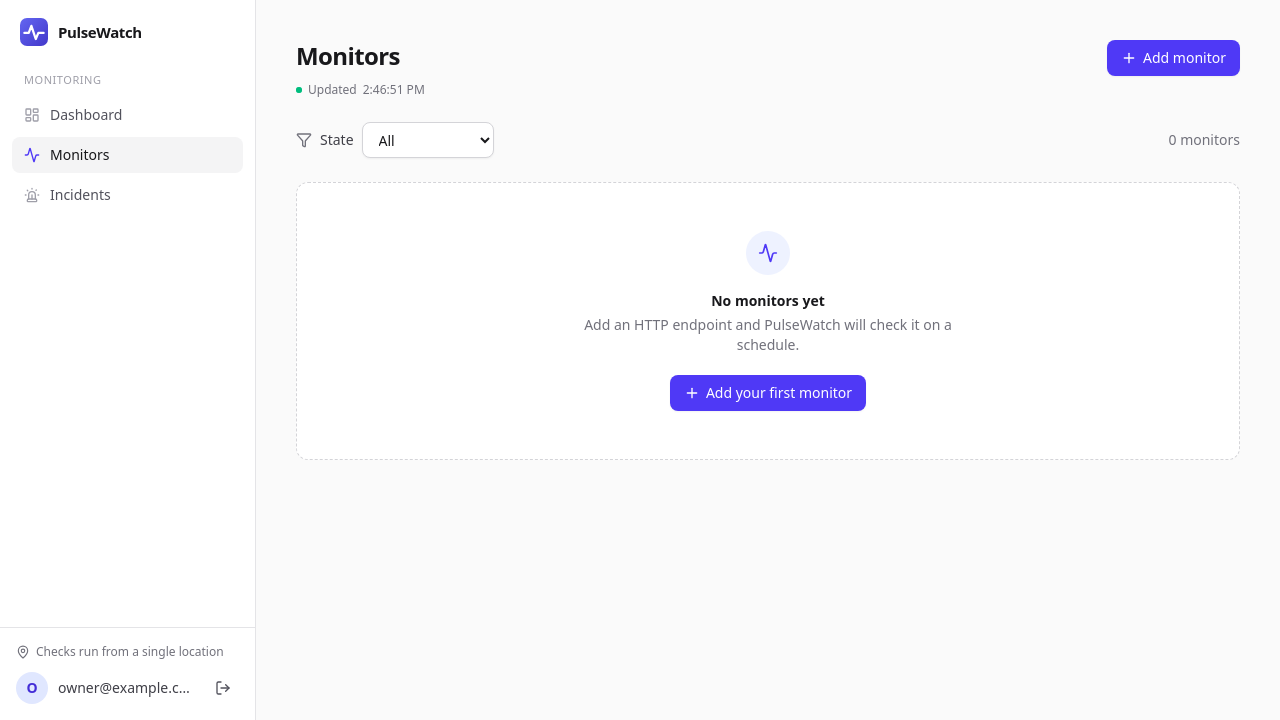
Test: monitor list › filters by state through the URL
Select "Down" in the dropdown labelled "State" at (428, 140), box x1=362 y1=122 x2=494 y2=158
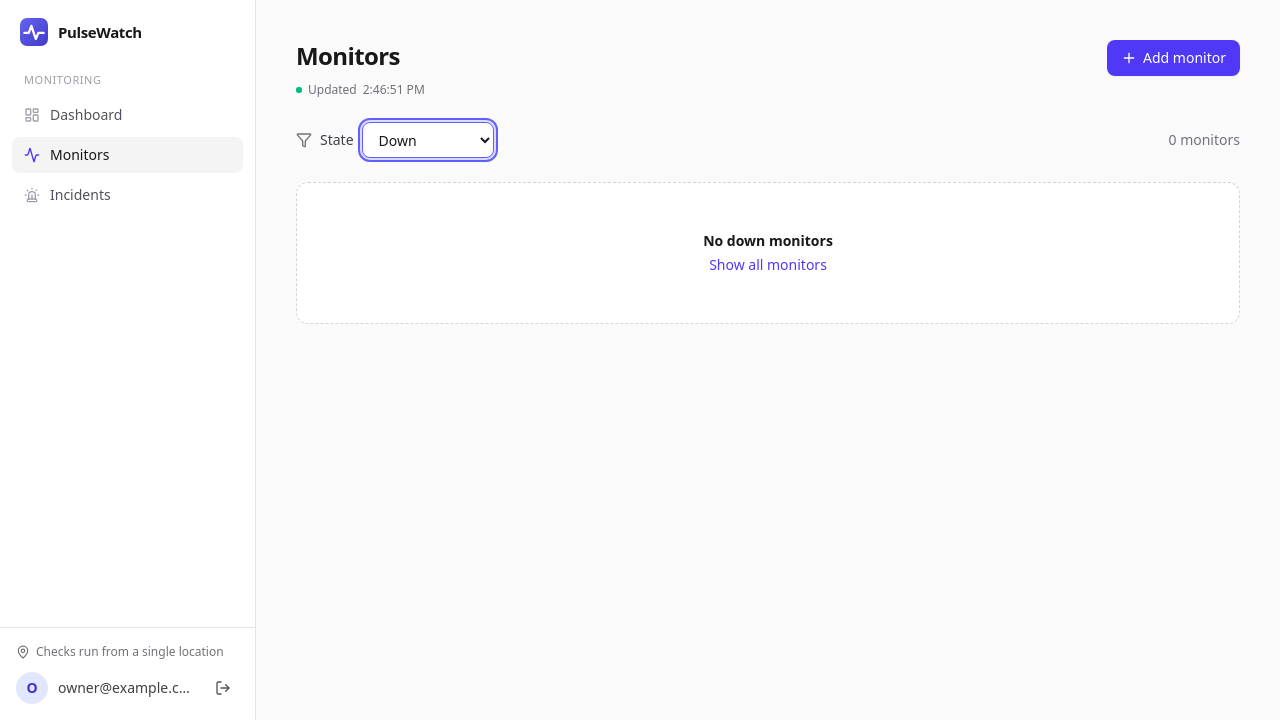
Check: the heading "No down monitors" is shown, box x1=703 y1=231 x2=833 y2=250
